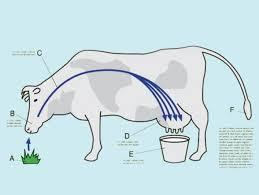cow: (21, 45, 254, 162)
